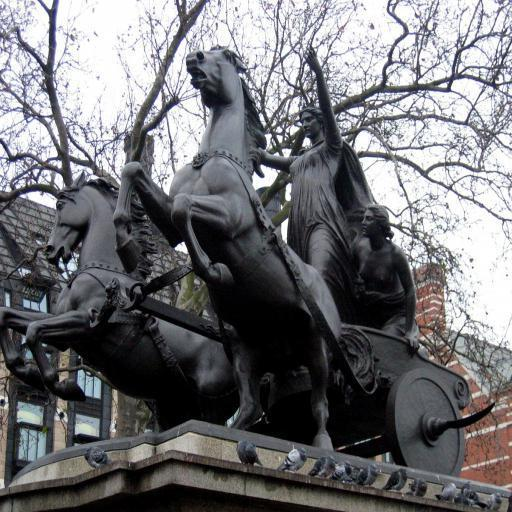horse: (110, 42, 378, 451), (0, 163, 271, 434)
